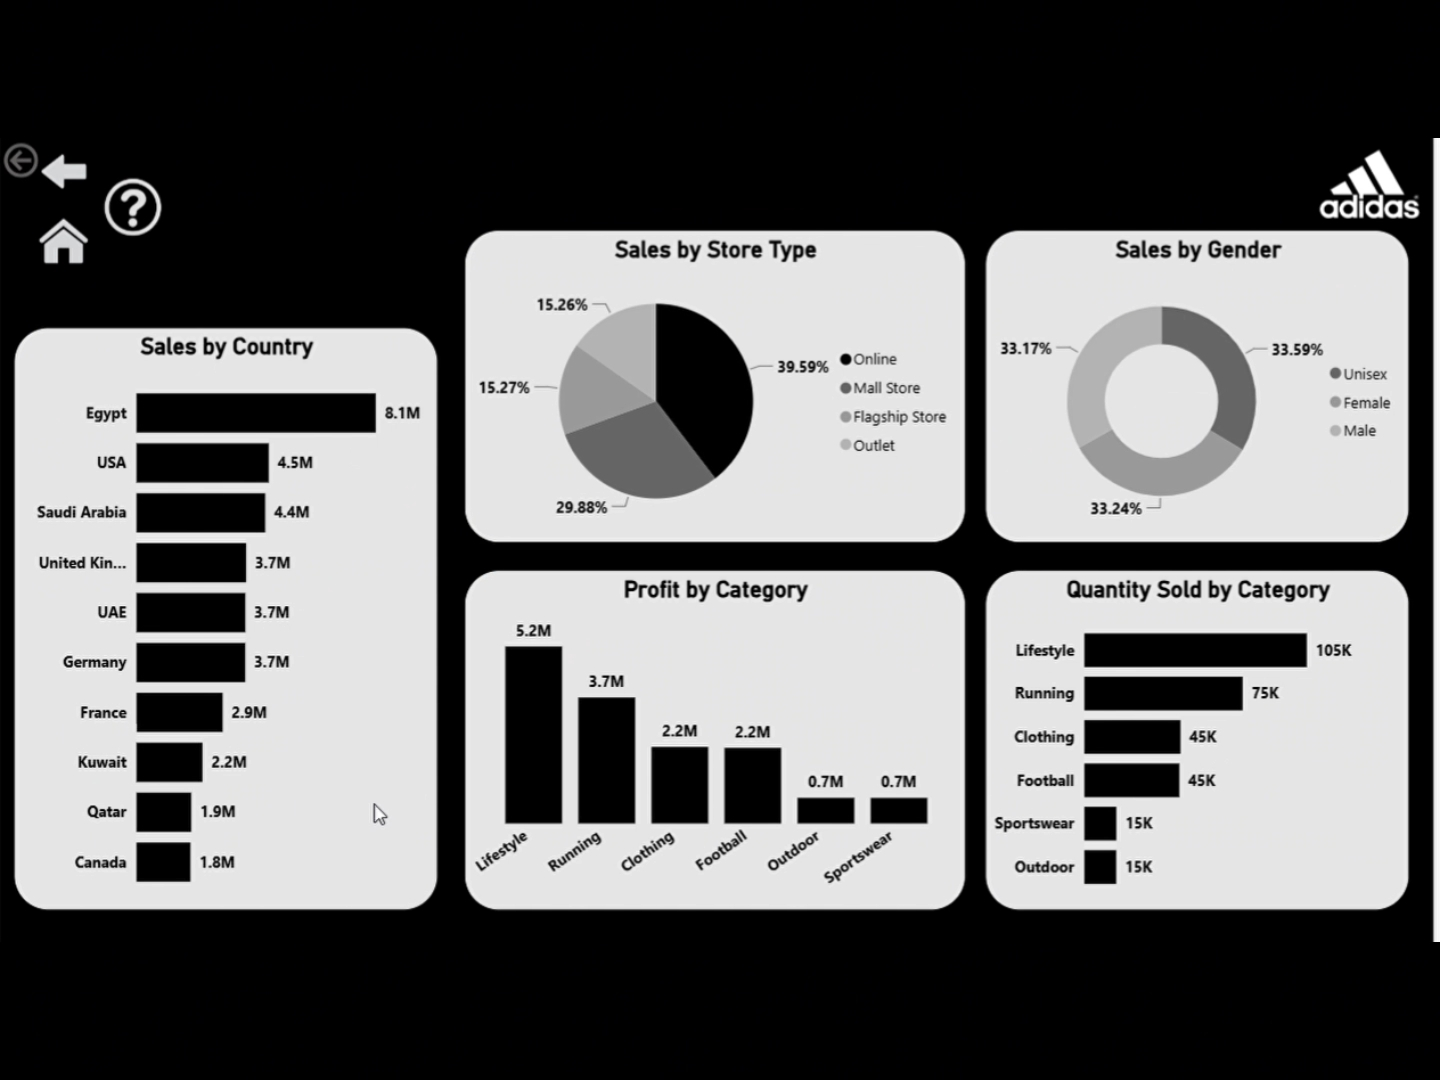

The dashboard page shown, as its layout file describes it:
{"tool":"powerbi","page":{"name":"2","canvas":[1280,720],"ordinal":2},"visuals":[{"type":"columnChart","title":"Profit by Category","fields":{"Category":["Adidas Sales Data.Product Category"],"Y":["Adidas Sales Data.Total Profit"]},"box":[416.7,385.5,445,300.7],"z":0},{"type":"pieChart","title":"Sales by Store Type","fields":{"Category":["Adidas Sales Data.Store Type"],"Y":["Adidas Sales Data.Total Sales"]},"box":[416.7,83.3,445,276.8],"z":1000},{"type":"donutChart","title":"Sales by Gender","fields":{"Category":["Adidas Sales Data.Gender"],"Y":["Adidas Sales Data.Total Sales"]},"box":[881.1,83.3,376.6,276.8],"z":2000},{"type":"barChart","title":"Quantity Sold by Category","fields":{"Category":["Adidas Sales Data.Product Category"],"Y":["Adidas Sales Data.Total Quantity"]},"box":[881.1,385.5,376.6,300.7],"z":3000},{"type":"barChart","title":"Sales by Country","fields":{"Category":["Adidas Sales Data.Country"],"Y":["Adidas Sales Data.Total Sales"]},"box":[14.9,169.7,376.6,516.5],"z":4000},{"type":"image","box":[0,1.5,125,81.9],"z":5000},{"type":"image","box":[1178.8,0,89.3,83.3],"z":6000},{"type":"image","box":[0,58.8,110.2,92.6],"z":7000},{"type":"actionButton","box":[0,0,100,40],"z":8000},{"type":"image","box":[86.7,20.6,74.9,85.2],"z":8001}]}

Visuals, with their boxes in screenshot pixels (x1, y1, x2, y2):
"Profit by Category" columnChart: bbox(466, 566, 960, 900)
"Sales by Store Type" pieChart: bbox(466, 231, 960, 538)
"Sales by Gender" donutChart: bbox(981, 231, 1399, 538)
"Quantity Sold by Category" barChart: bbox(981, 566, 1399, 900)
"Sales by Country" barChart: bbox(20, 327, 438, 900)
image: bbox(4, 140, 142, 231)
image: bbox(1312, 139, 1411, 231)
image: bbox(4, 204, 126, 307)
actionButton: bbox(4, 139, 115, 183)
image: bbox(100, 162, 183, 256)
